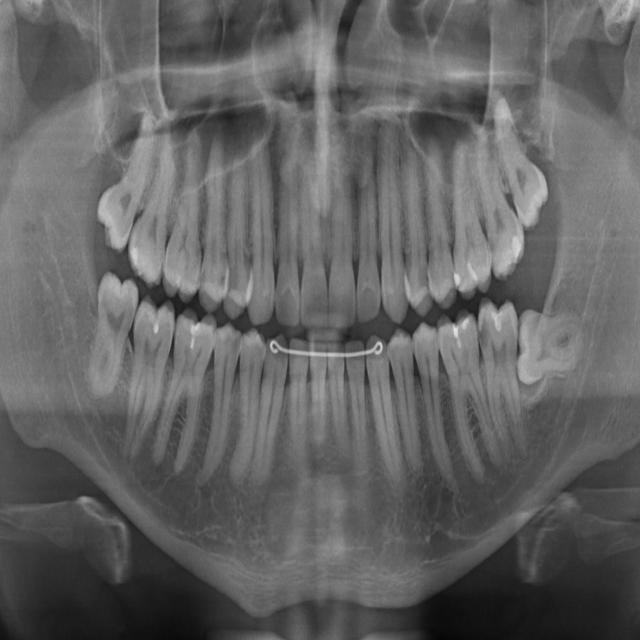CompositeResinRestoration: (453, 244, 482, 301), (446, 308, 474, 362), (125, 230, 146, 273), (146, 305, 167, 348), (490, 298, 513, 337), (507, 226, 529, 266), (185, 318, 207, 358)
DentalCaries: (412, 244, 437, 308), (473, 304, 498, 362), (228, 328, 248, 385), (193, 250, 213, 302), (215, 252, 235, 302), (482, 223, 501, 271)
ImpactedTooth: (516, 301, 583, 383)
